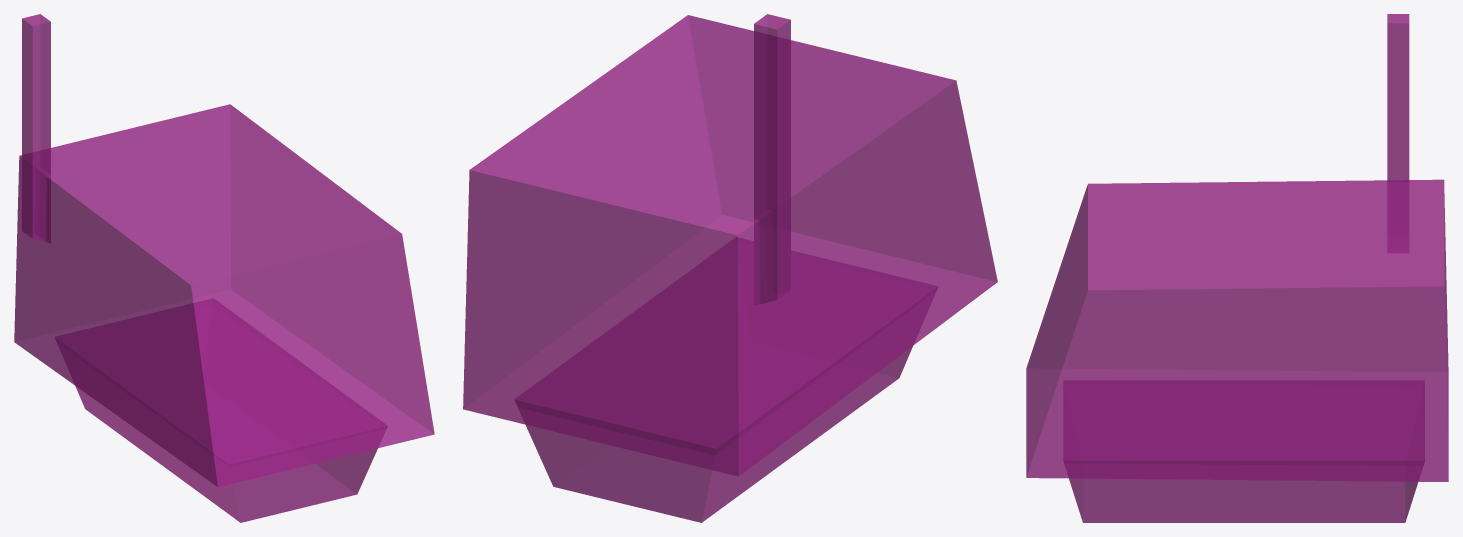
Rendered from SM_Veh_Delivery_Bot_01_Collision.fbx.
3 renders of one model, left to right at view 1: azimuth 30°, elevation 25°; view 2: azimuth 150°, elevation 25°; view 3: azimuth 270°, elevation 25°, orthographic. The views are drawn at different scales.
Parts seen in each view (by area): view 1: SM_Veh_Delivery_Bot_01_Collision; view 2: SM_Veh_Delivery_Bot_01_Collision; view 3: SM_Veh_Delivery_Bot_01_Collision.
Boxes of the visible parts, box(x1,y1,x2,y2) form: SM_Veh_Delivery_Bot_01_Collision: box(14, 14, 434, 522); SM_Veh_Delivery_Bot_01_Collision: box(463, 14, 997, 522); SM_Veh_Delivery_Bot_01_Collision: box(1026, 14, 1448, 522).
Bounding box in the file's own units: 74 × 125 × 114.
